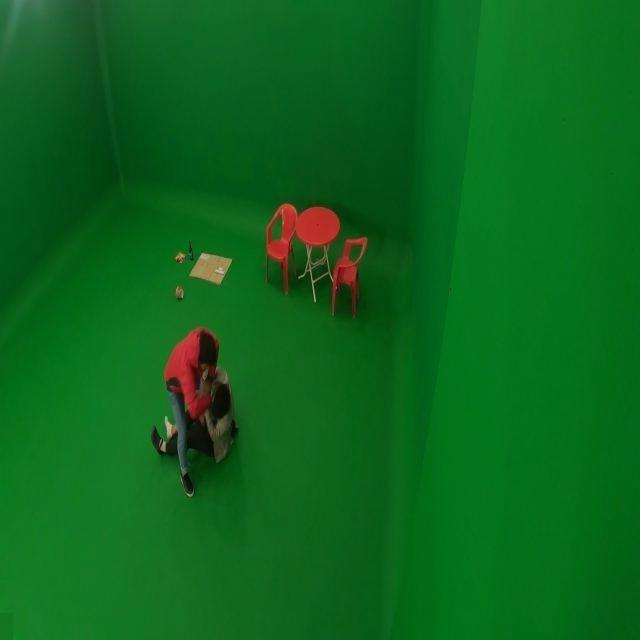fight: (148, 325, 241, 497)
